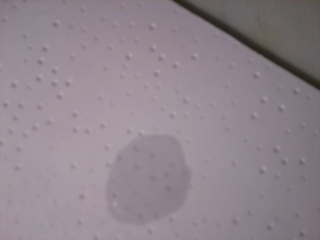Water_detected: (107, 137, 183, 211)
